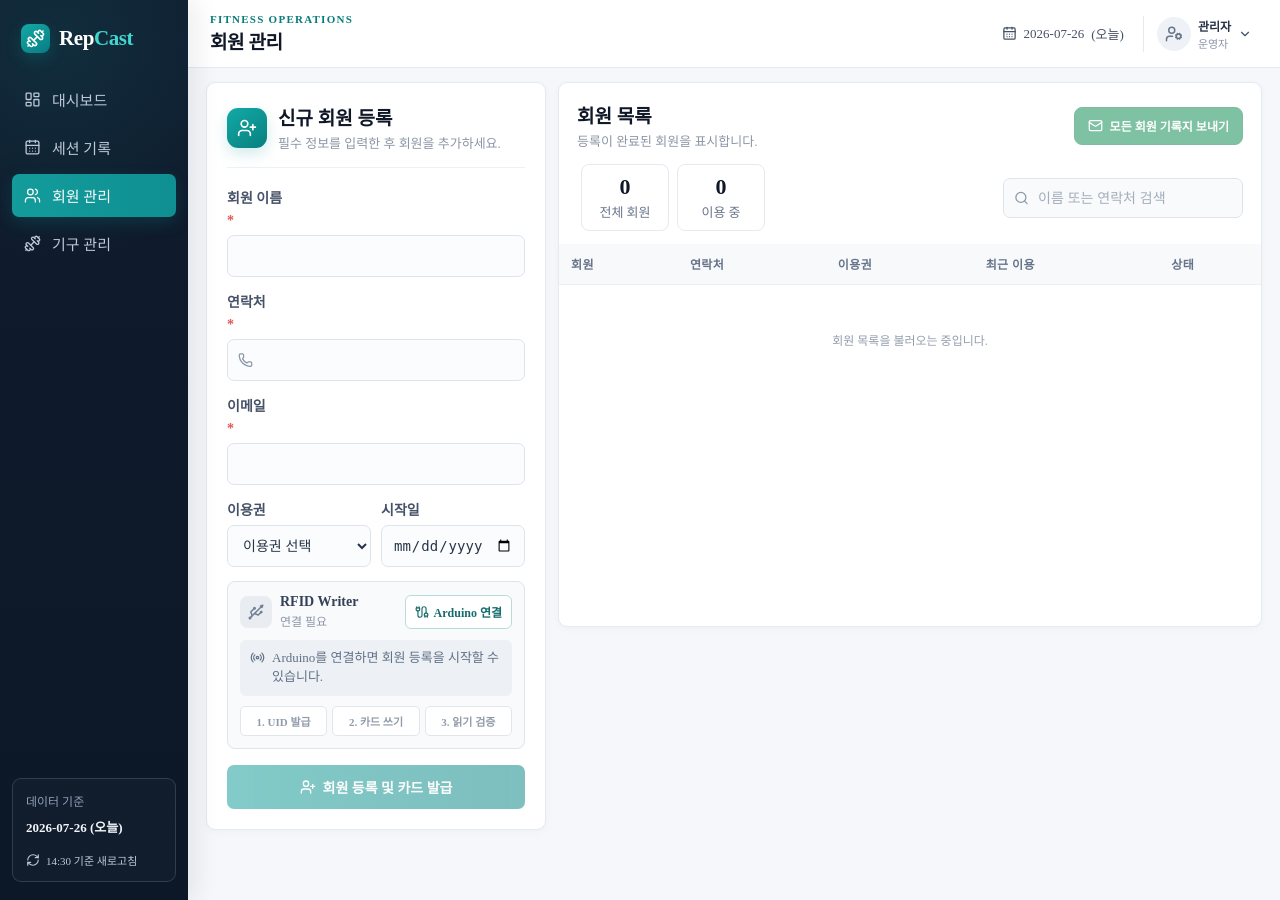
Scenario: 자동 재시도 중 카드 등록을 취소할 수 있다
Step 1. Click the button "Arduino 연결" → (458, 612), box [405,595,512,629]
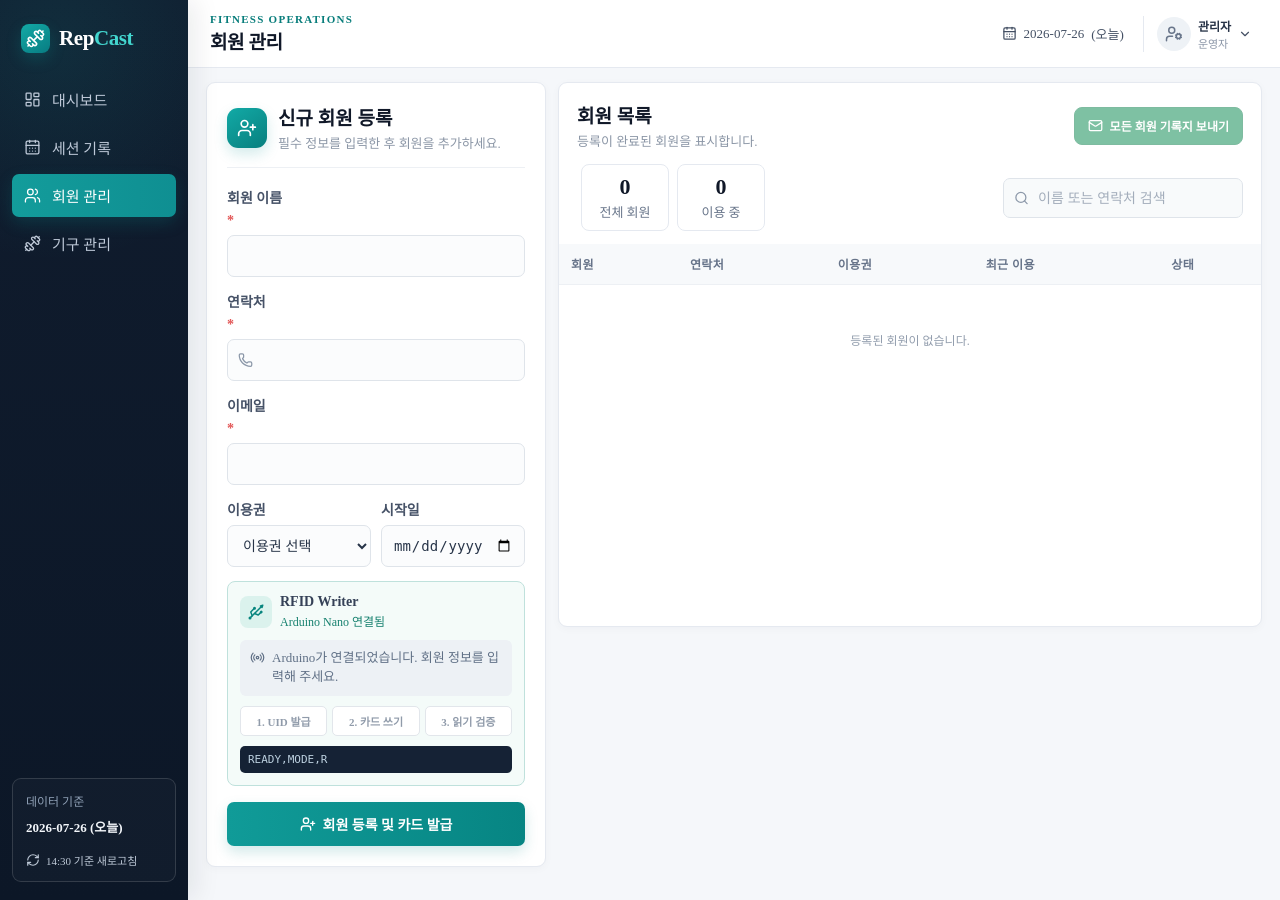
Expected: the text "Arduino Nano 연결됨" is shown, [280,612,385,630]
Step 2. Type "홍길동" into the field labelled "회원 이름 *" → (376, 256), box [227,235,525,277]
Step 3. Type "010-1234-5678" into the field labelled "연락처 *" → (376, 360), box [227,339,525,381]
Step 4. Type "member@example.com" into the field labelled "이메일 *" → (376, 464), box [227,443,525,485]
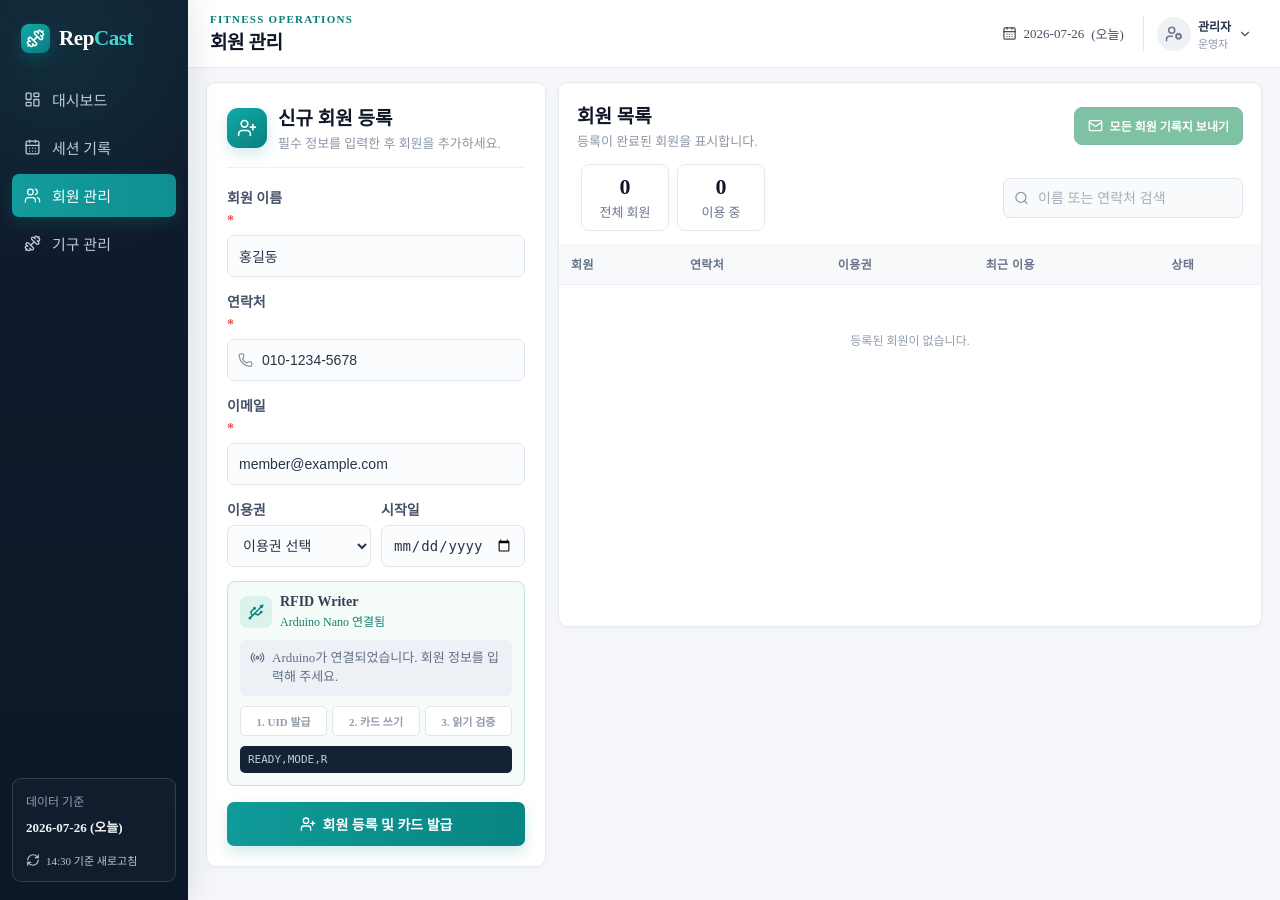
Step 5. Select "3개월 이용권" in the dropdown labelled "이용권" → (299, 546), box [227,525,371,567]
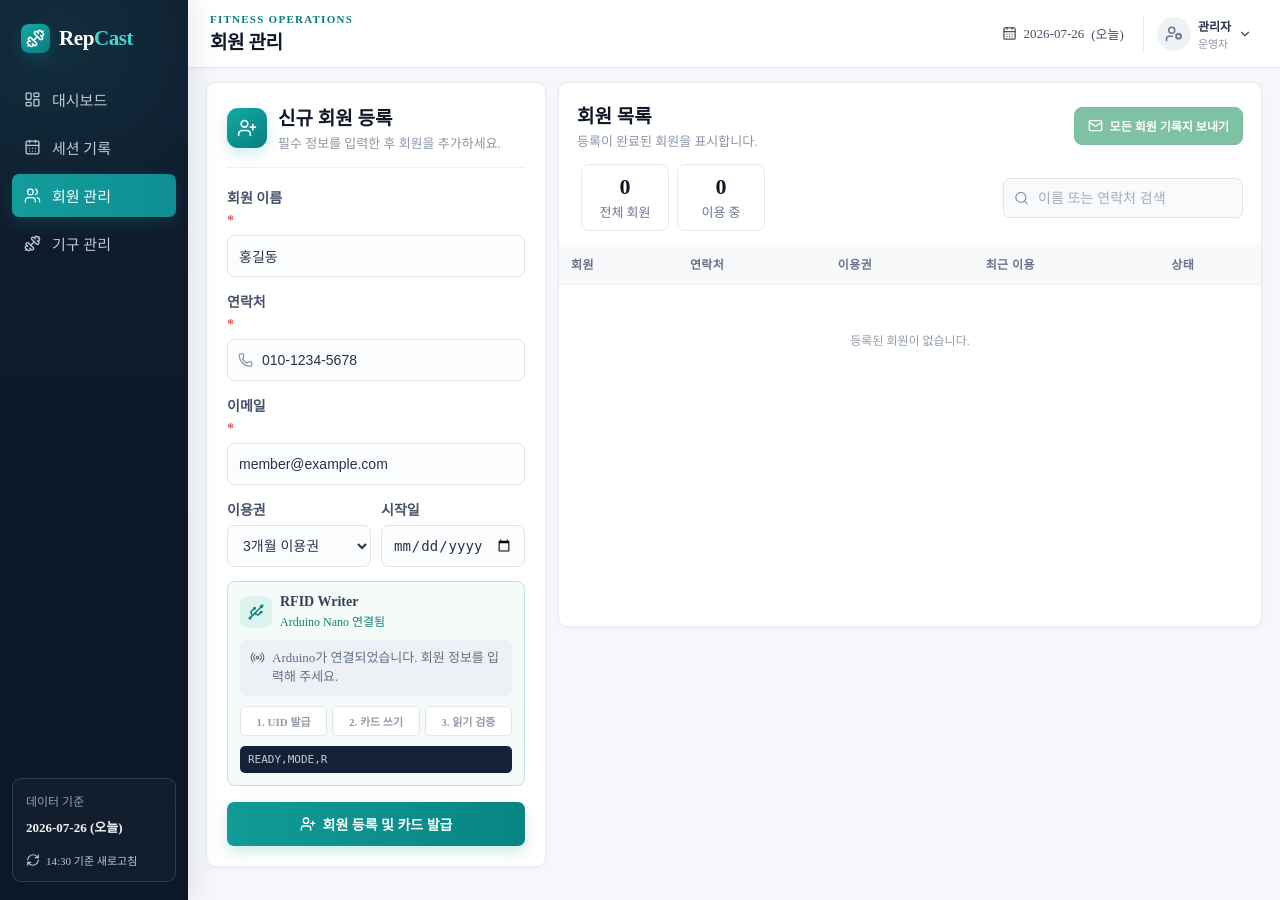
Step 6. Type "2026-07-24" into the date field labelled "시작일" → (453, 546), box [381,525,525,567]
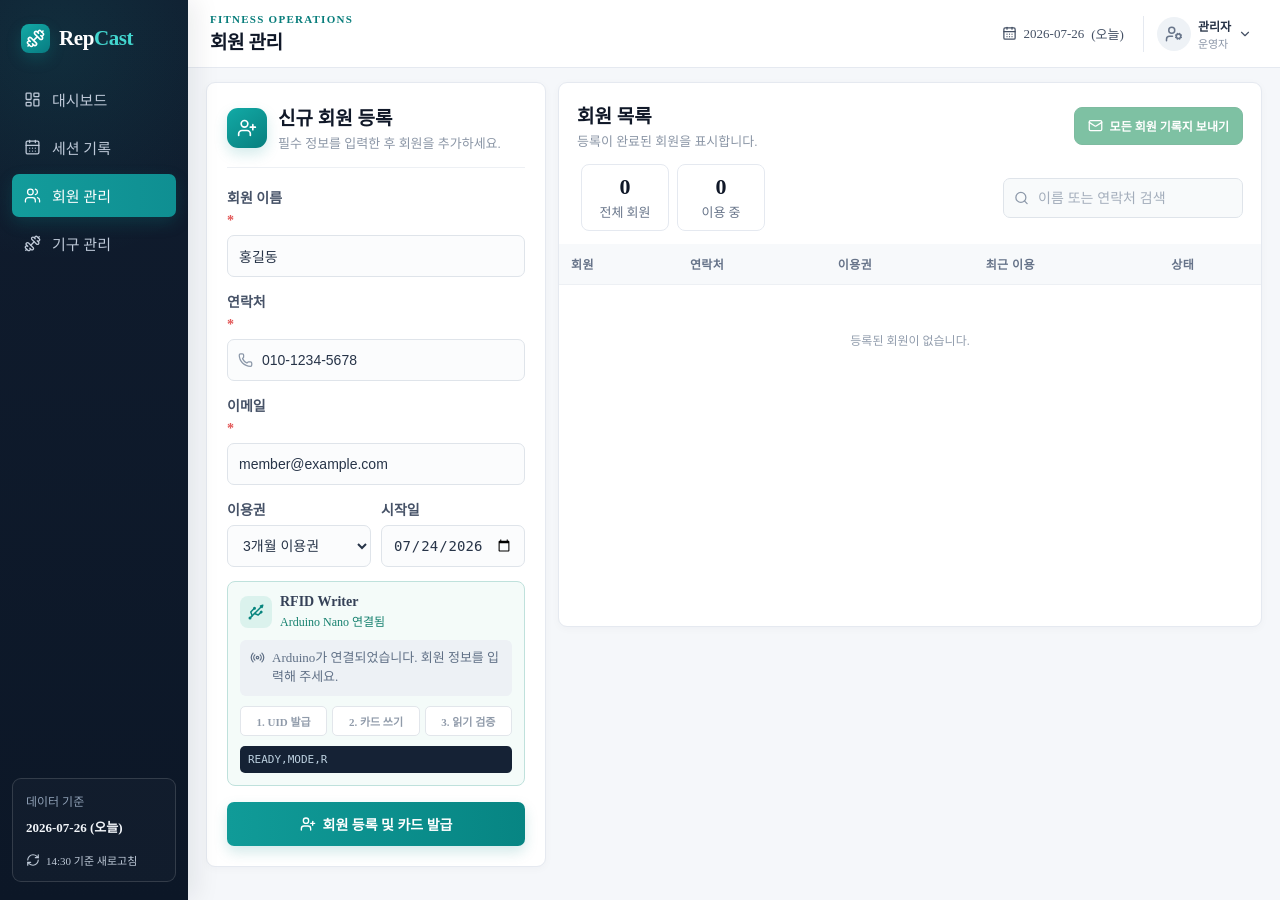
Step 7. Click the button "회원 등록 및 카드 발급" → (376, 824), box [227,802,525,846]
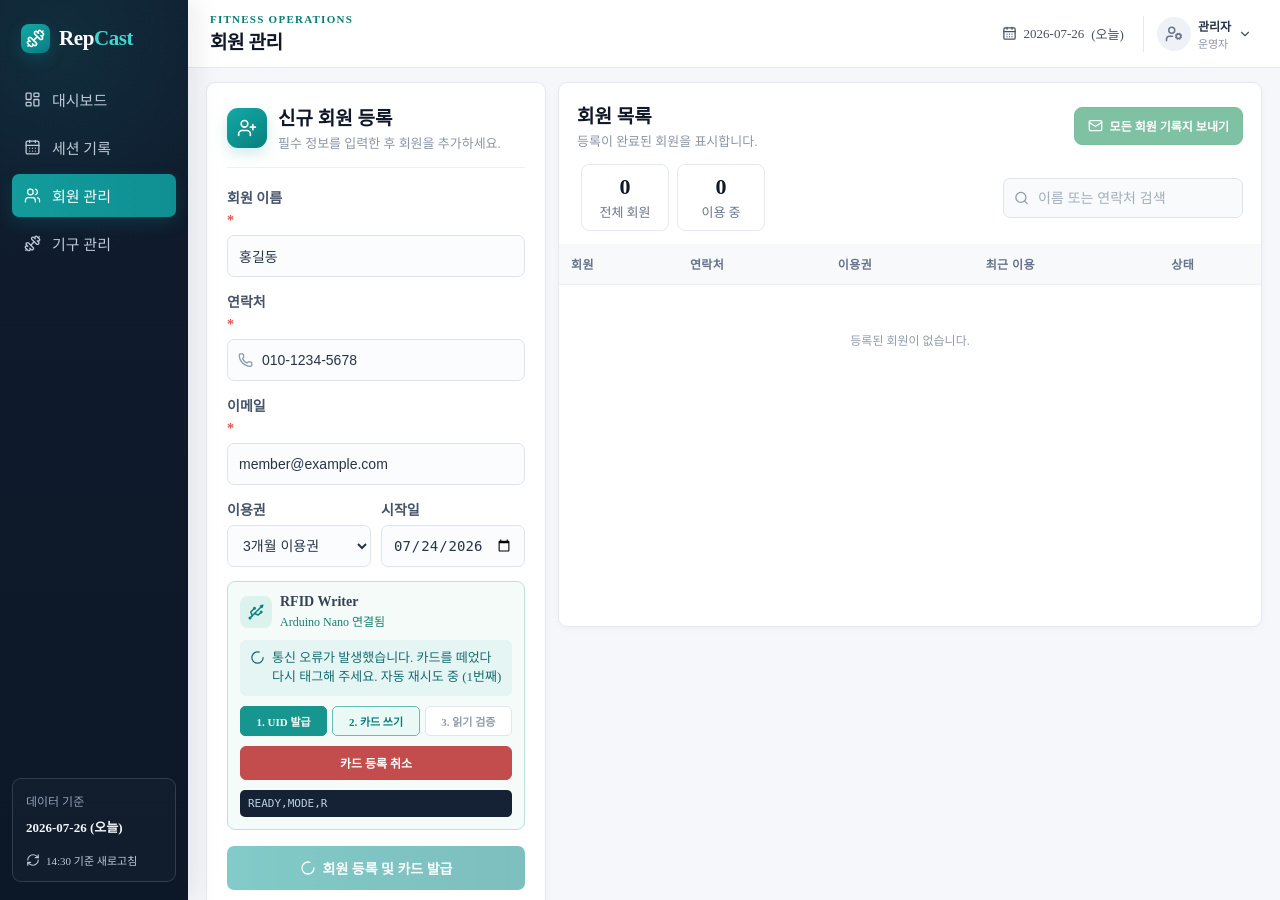
Expected: the text "통신 오류가 발생했습니다. 카드를 떼었다 다시 태그해 주세요. 자동 재시도 중 (1번째)" is shown, [272,649,502,687]
Step 8. Click the button "카드 등록 취소" → (376, 763), box [240,746,512,780]
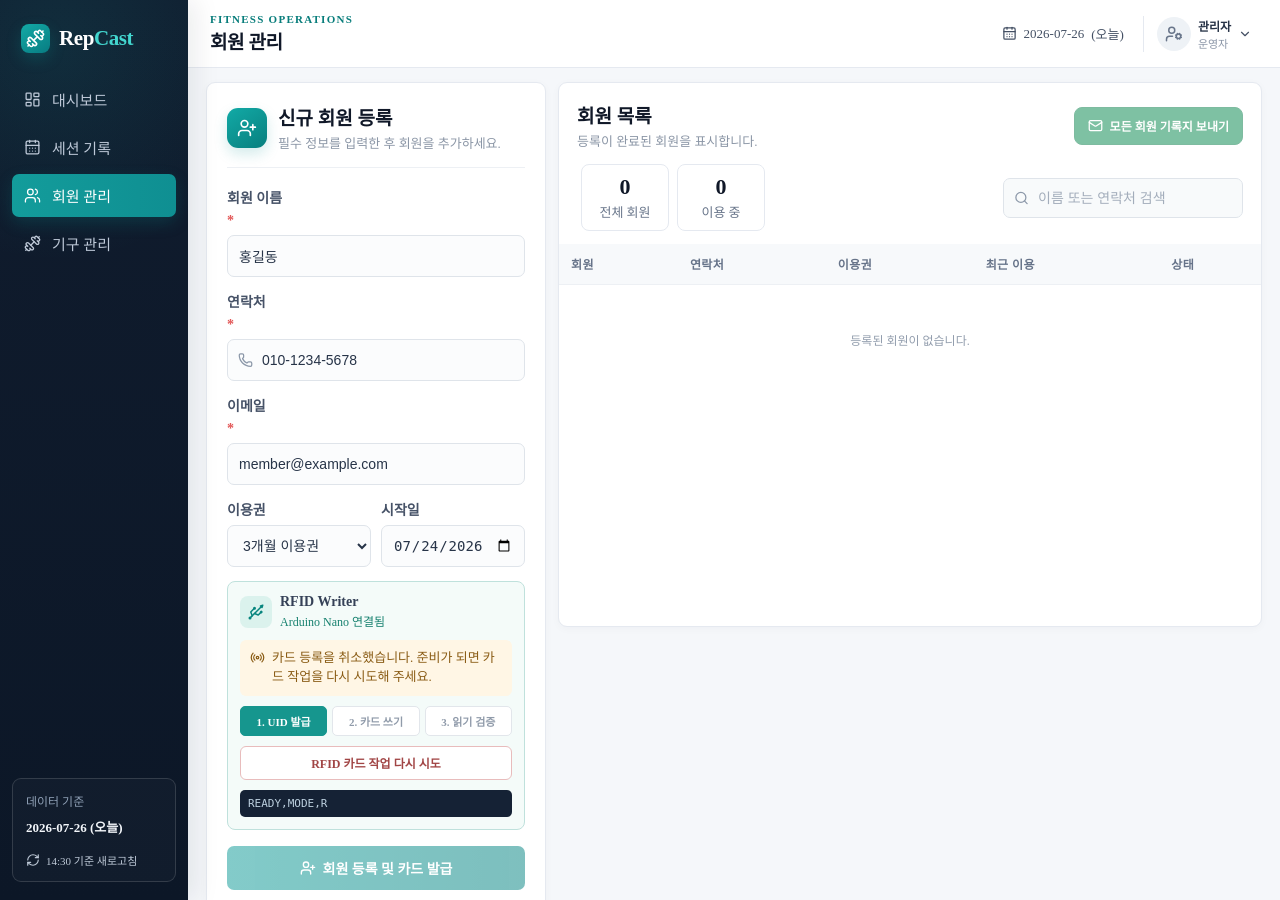
Expected: the text "카드 등록을 취소했습니다. 준비가 되면 카드 작업을 다시 시도해 주세요." is shown, [272,649,502,687]
Expected: the button "RFID 카드 작업 다시 시도" is shown, [240,746,512,780]
